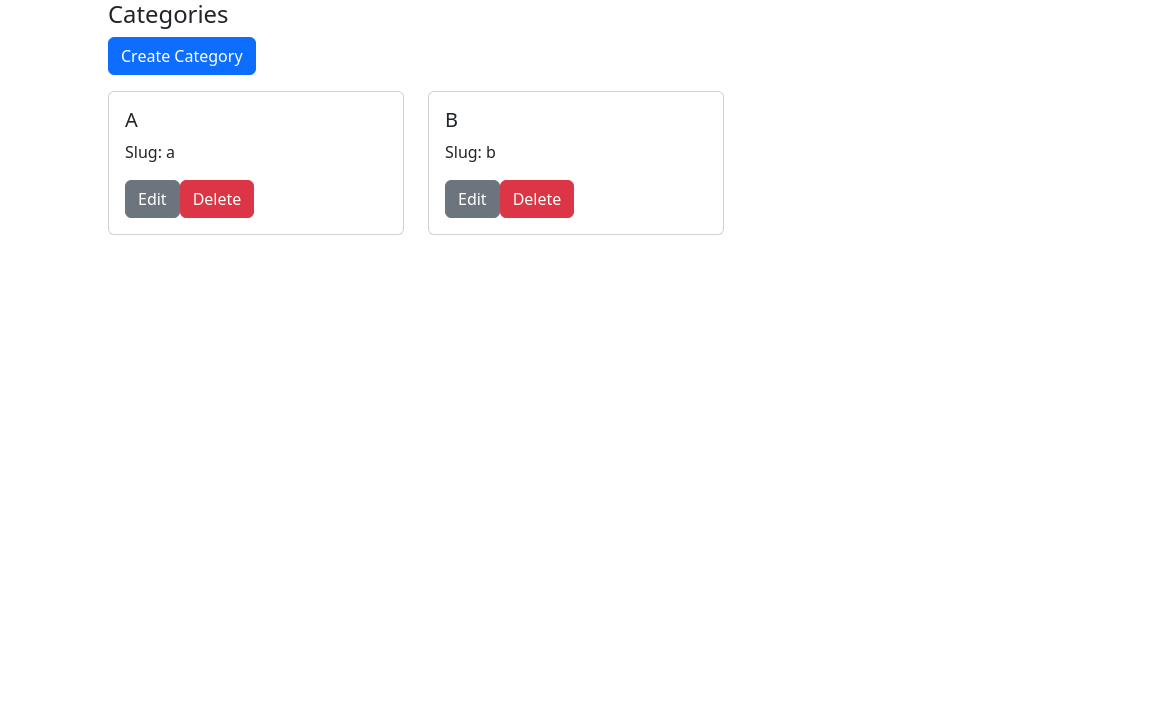
<VendorCategories /> › prevents duplicate slug on edit
The width and height of the screenshot is (1152, 720).
Click the 1st button "Edit" at (152, 199), box [125, 180, 180, 218]
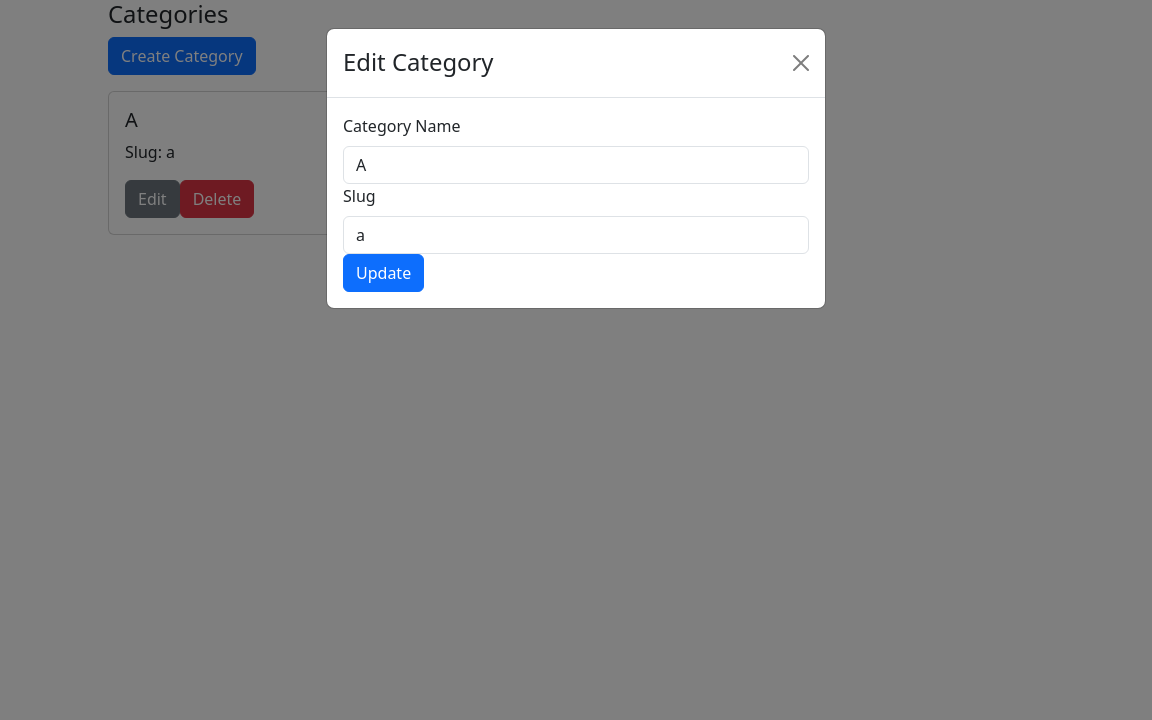
Replace the text in the field labelled "Slug" with "b" at (576, 235), box [343, 216, 809, 254]
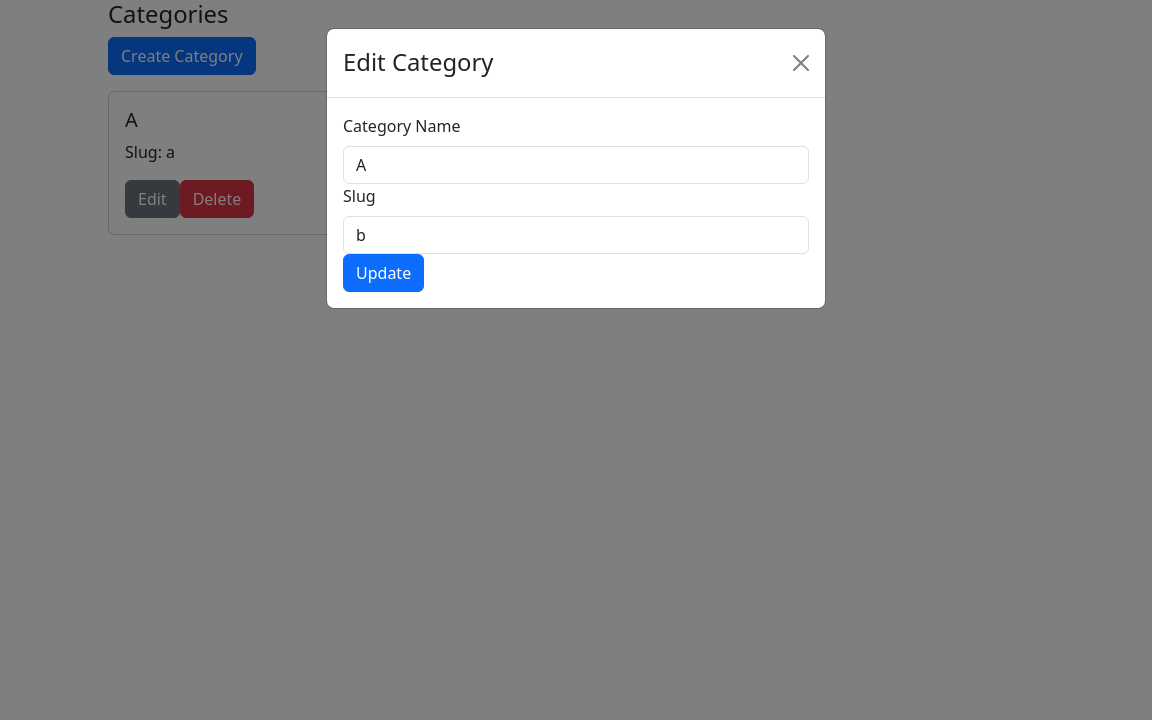
Click the button "Update" at (384, 273), box [343, 254, 424, 292]
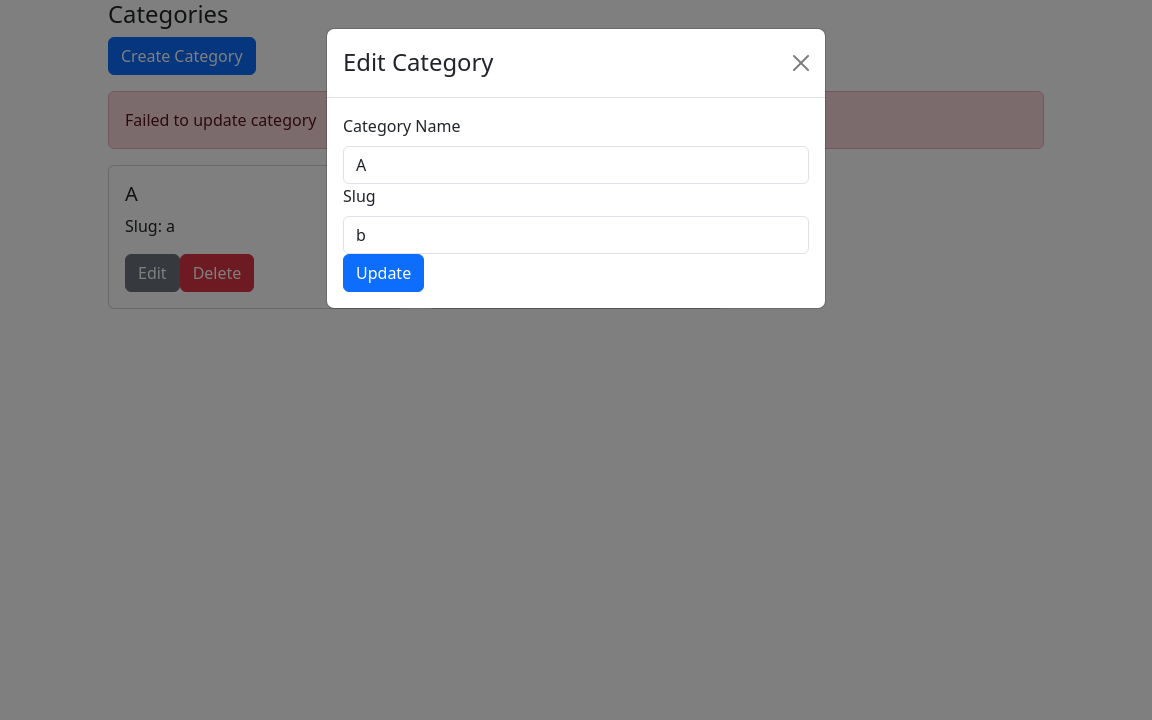
expect the message reads "Failed to update category": met, box [125, 109, 316, 131]
